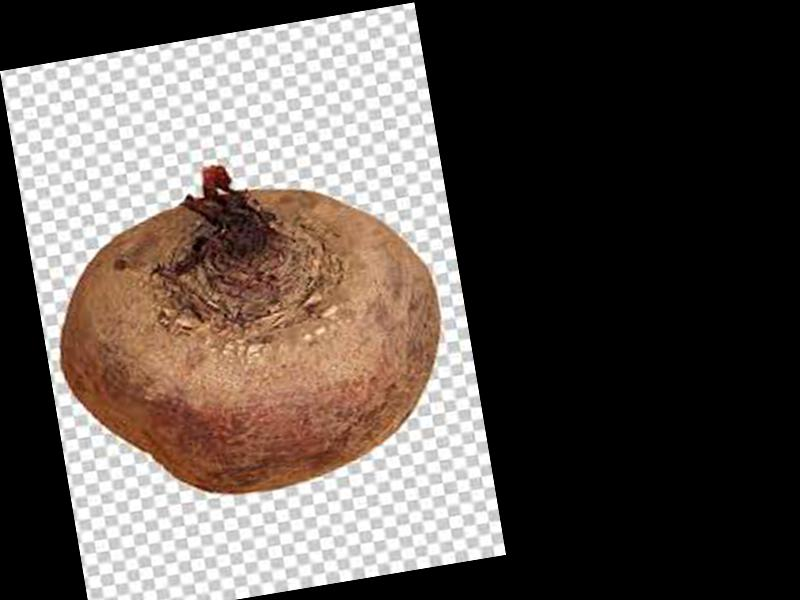Beet: (36, 132, 461, 518)
